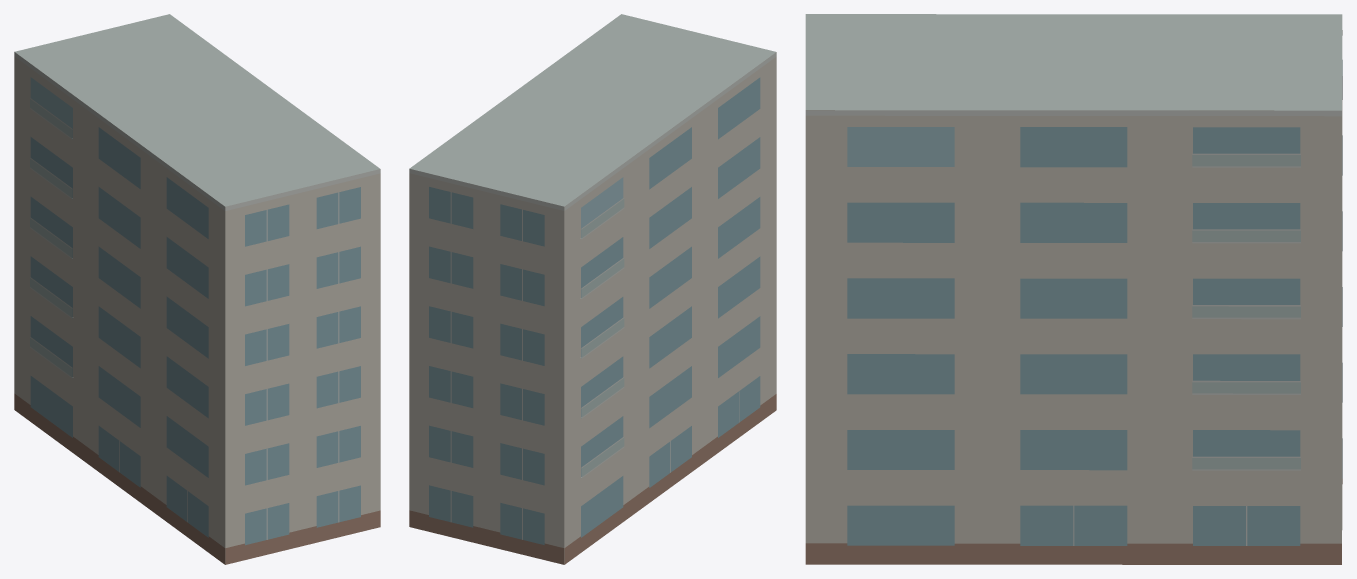
The model's file is survey-upis-32733461.glb.
3 renders of one model, left to right at view 1: azimuth 30°, elevation 25°; view 2: azimuth 150°, elevation 25°; view 3: azimuth 270°, elevation 25°, orthographic. The views are drawn at different scales.
Parts seen in each view (by area): view 1: survey-upis-32733461.tmp; view 2: survey-upis-32733461.tmp; view 3: survey-upis-32733461.tmp.
Part boxes in pixels (x1,y1,x2,y2): survey-upis-32733461.tmp: (14, 14, 380, 564); survey-upis-32733461.tmp: (409, 14, 776, 564); survey-upis-32733461.tmp: (805, 14, 1342, 564).
Size of the model in its own units: 8.97 by 19.6 by 21.
